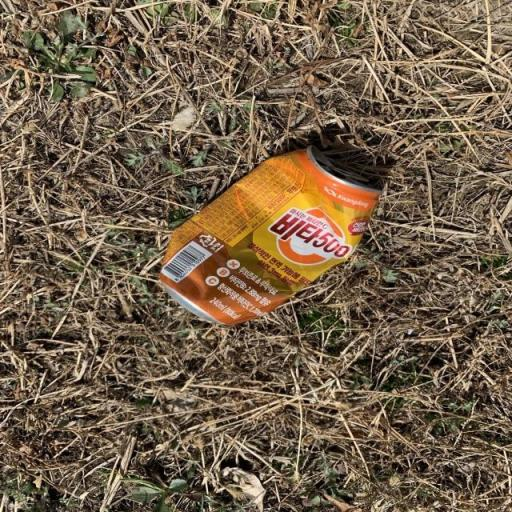metal: (120, 117, 416, 360)
